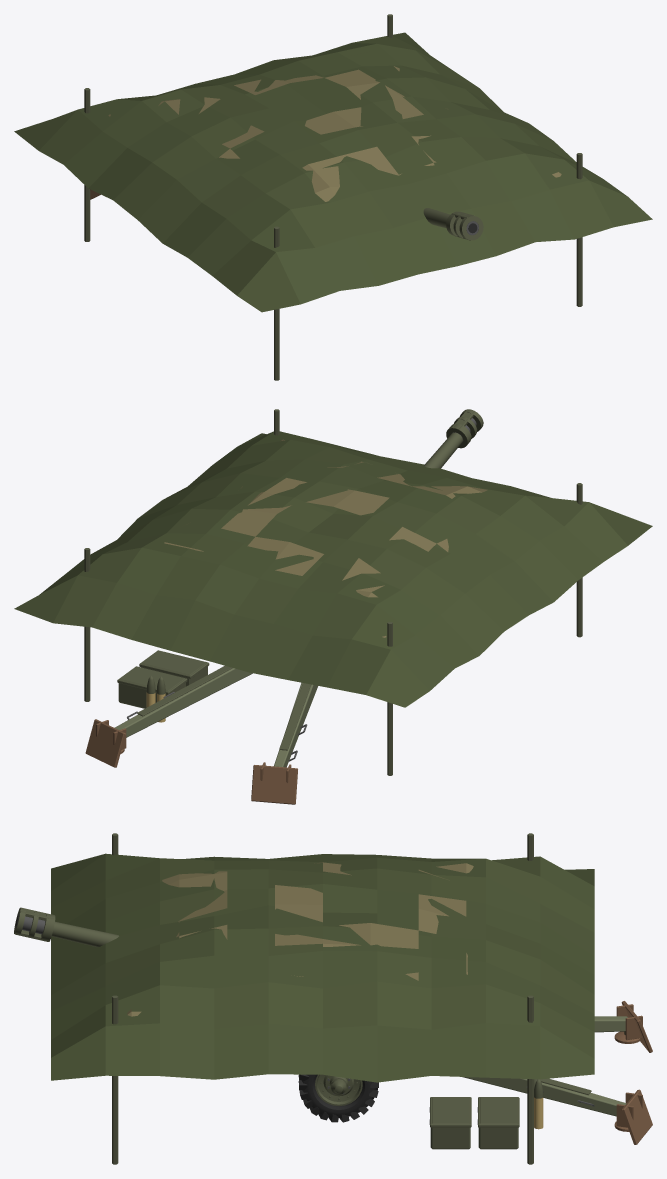
The model's file is Enemy_Artillery.fbx.
3 renders of one model, top to bottom at view 1: azimuth 30°, elevation 25°; view 2: azimuth 150°, elevation 25°; view 3: azimuth 270°, elevation 25°, orthographic. The views are drawn at different scales.
Parts seen in each view (by area): view 1: Enemy_Artillery_Mesh, Barrel; view 2: Enemy_Artillery_Mesh, Barrel; view 3: Enemy_Artillery_Mesh, Barrel.
Boxes of the visible parts, box(x1,y1,x2,y2) form: Enemy_Artillery_Mesh: box(14, 14, 652, 380); Barrel: box(423, 208, 483, 240); Enemy_Artillery_Mesh: box(14, 409, 652, 804); Barrel: box(424, 409, 483, 468); Enemy_Artillery_Mesh: box(51, 833, 652, 1164); Barrel: box(14, 907, 118, 947).
Bounding box in the file's own units: 6.2 × 2.57 × 8.
